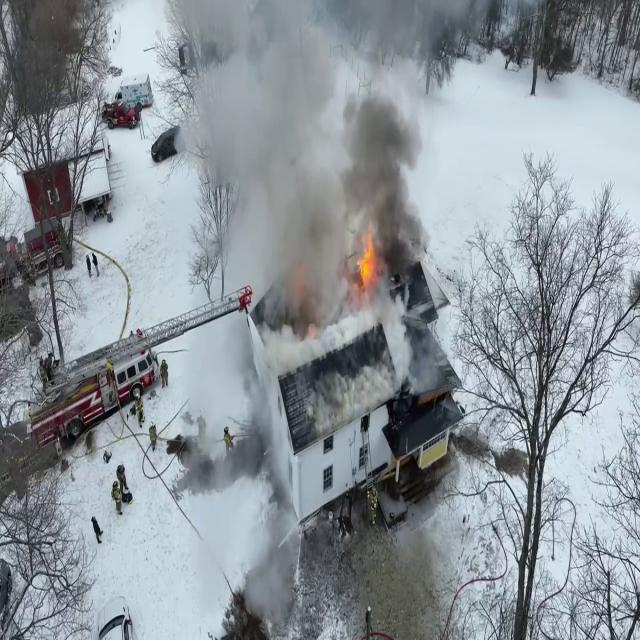Fire: (354, 220, 378, 295)
Smoke: (180, 1, 450, 350)
